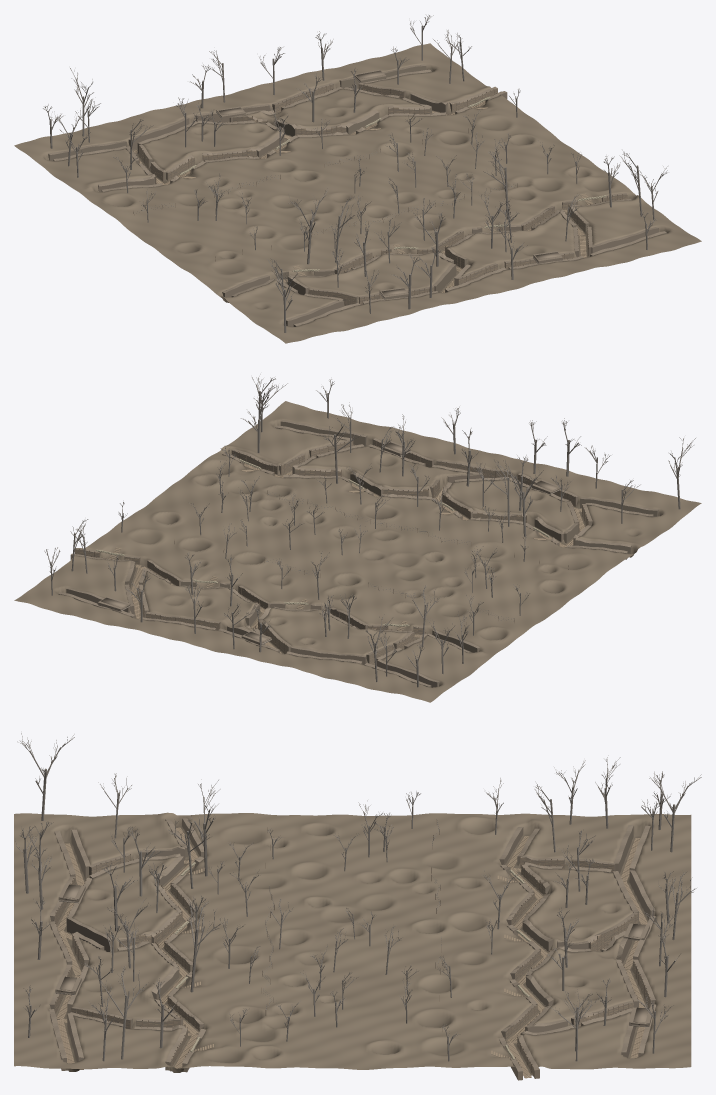
Rendered from trenches.glb.
The picture shows the model from 3 angles, top to bottom: view 1: azimuth 30°, elevation 25°; view 2: azimuth 150°, elevation 25°; view 3: azimuth 270°, elevation 25°; orthographic projection. The views are drawn at different scales.
Parts seen in each view (by area): view 1: Terrain, Backing, Planks, Posts, C_Roofs, Duckboards, Mounds; view 2: Terrain, Backing, Planks, Posts, Duckboards, C_Roofs, Mounds; view 3: Terrain, Backing, Duckboards, Planks, Posts, Mounds, C_Roofs, Tree59.
Boxes of the visible parts, x1,y1,x2,y2 form: Terrain: (14,43,701,343); Backing: (48,64,666,326); Planks: (139,85,627,305); Posts: (132,84,625,305); C_Roofs: (216,69,562,299); Duckboards: (133,101,586,292); Mounds: (217,70,560,297); Terrain: (14,401,701,702); Backing: (58,420,658,687); Planks: (74,440,588,664); Posts: (76,440,589,656); Duckboards: (131,463,584,653); C_Roofs: (97,441,561,644); Mounds: (101,442,560,643); Terrain: (14,812,691,1075); Backing: (49,818,656,1080); Duckboards: (56,827,647,1078); Planks: (54,856,650,1077); Posts: (53,853,650,1072); Mounds: (57,884,648,1025); C_Roofs: (55,884,653,1026); Tree59: (190,779,220,876).
Size of the model in its own units: 93.69 by 16.92 by 106.
